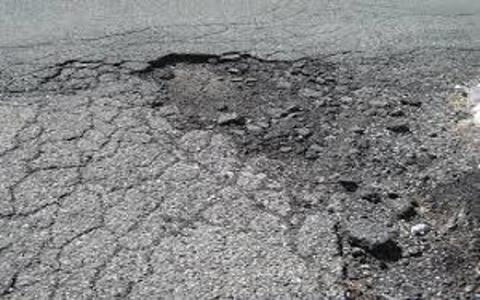patchy roads: (31, 20, 430, 270)
